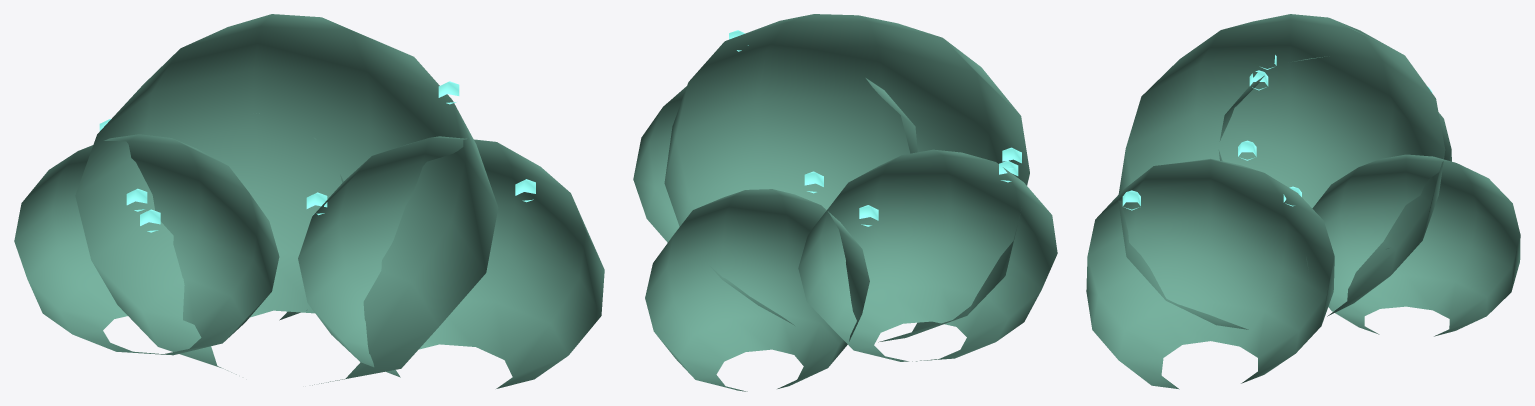
File: SM_SporeBush.glb
3 views of the same model, side by side, from view 1: azimuth 30°, elevation 25°; view 2: azimuth 150°, elevation 25°; view 3: azimuth 270°, elevation 25° (orthographic). The views are drawn at different scales.
Visible parts, largest first — view 1: SM_SporeBush; view 2: SM_SporeBush; view 3: SM_SporeBush.
Boxes of the visible parts, left/top/right/bottom form: SM_SporeBush: left=14, top=14, right=604, bottom=388; SM_SporeBush: left=633, top=14, right=1057, bottom=391; SM_SporeBush: left=1086, top=14, right=1520, bottom=389.
Bounding box in the file's own units: 1.22 × 0.8052 × 1.09.
